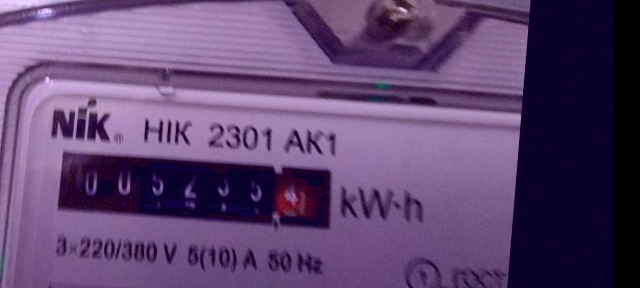0: (112, 164, 134, 198), (80, 165, 100, 197)
2: (178, 166, 201, 201)
3: (210, 166, 236, 201)
4: (278, 172, 303, 210)
5: (244, 168, 268, 206), (146, 164, 167, 199)
screen: (39, 133, 347, 244)
